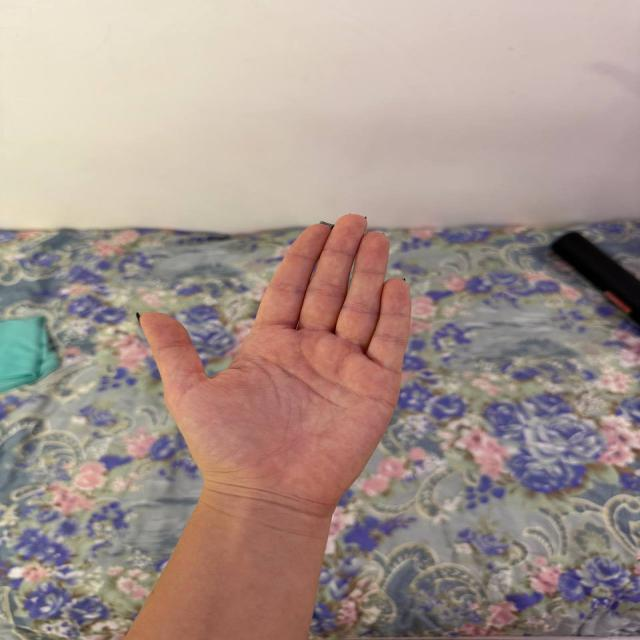v: (131, 210, 413, 513)
